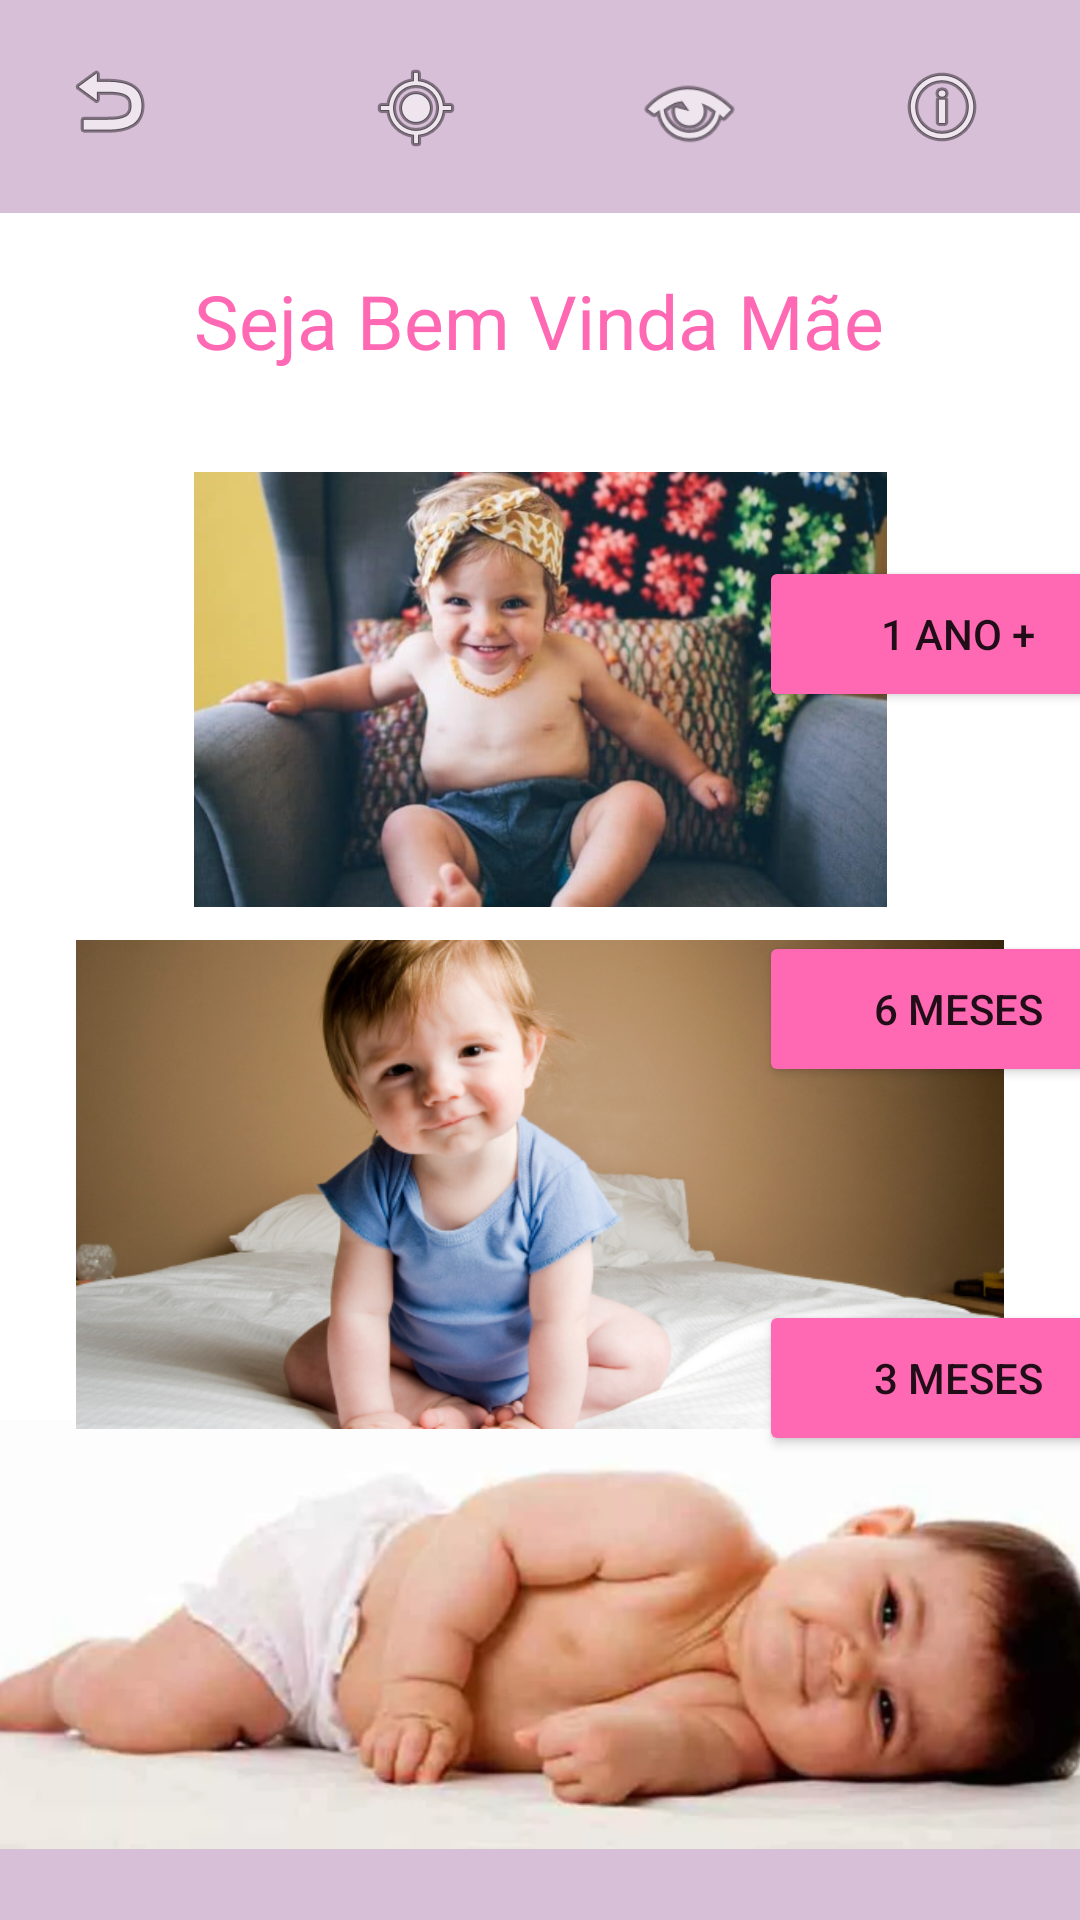

Screen size 1080 × 1920. Icon name, then its center in pixels as [x,y]:
info details: [942,107]
mylocation: [416,108]
revert: [110,101]
view: [689,113]
